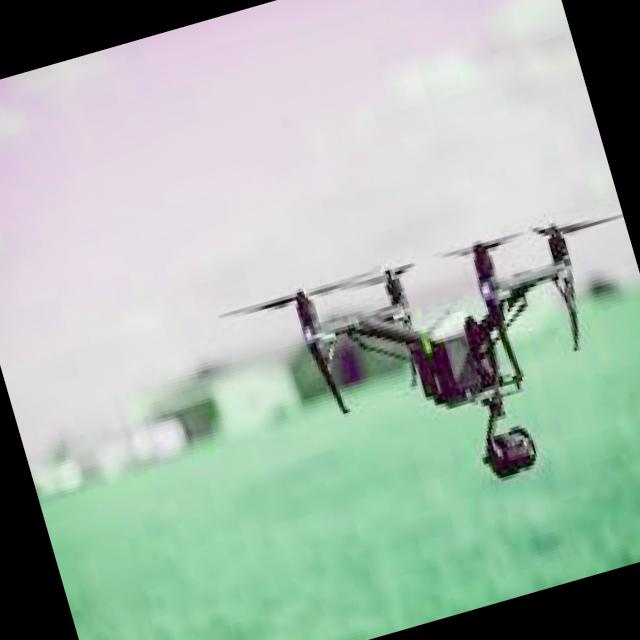drone: (201, 160, 640, 544)
